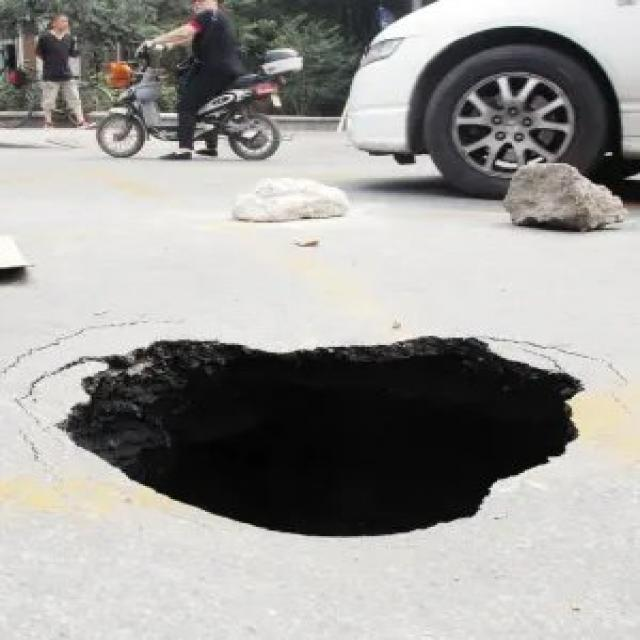Pothole: (43, 332, 591, 536)
